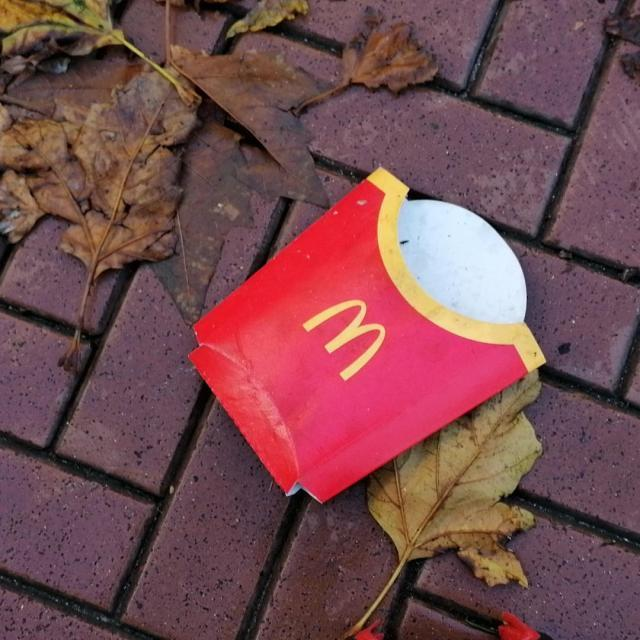Paper: (184, 162, 551, 508)
